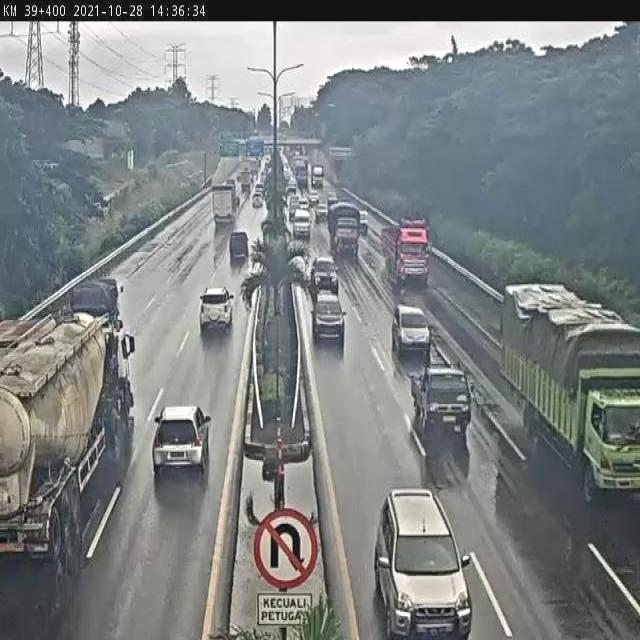Car: (374, 485, 474, 640), (152, 404, 212, 483), (391, 304, 430, 360), (311, 291, 346, 345), (198, 285, 235, 334), (310, 255, 339, 293), (229, 231, 249, 262), (292, 208, 311, 238), (317, 202, 329, 222), (327, 192, 338, 211), (286, 178, 297, 196), (254, 181, 264, 198), (309, 192, 319, 208)
Truck: (0, 285, 134, 631), (502, 284, 640, 508), (409, 361, 474, 443), (380, 216, 431, 292), (326, 200, 363, 259), (212, 179, 238, 226), (312, 164, 324, 189)
